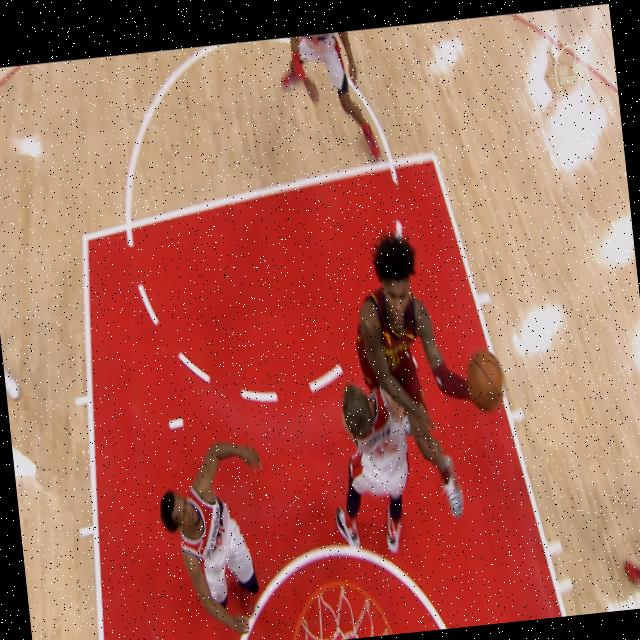foul: (300, 182, 522, 547)
